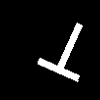half_double_crochet: (38, 23, 82, 81)
